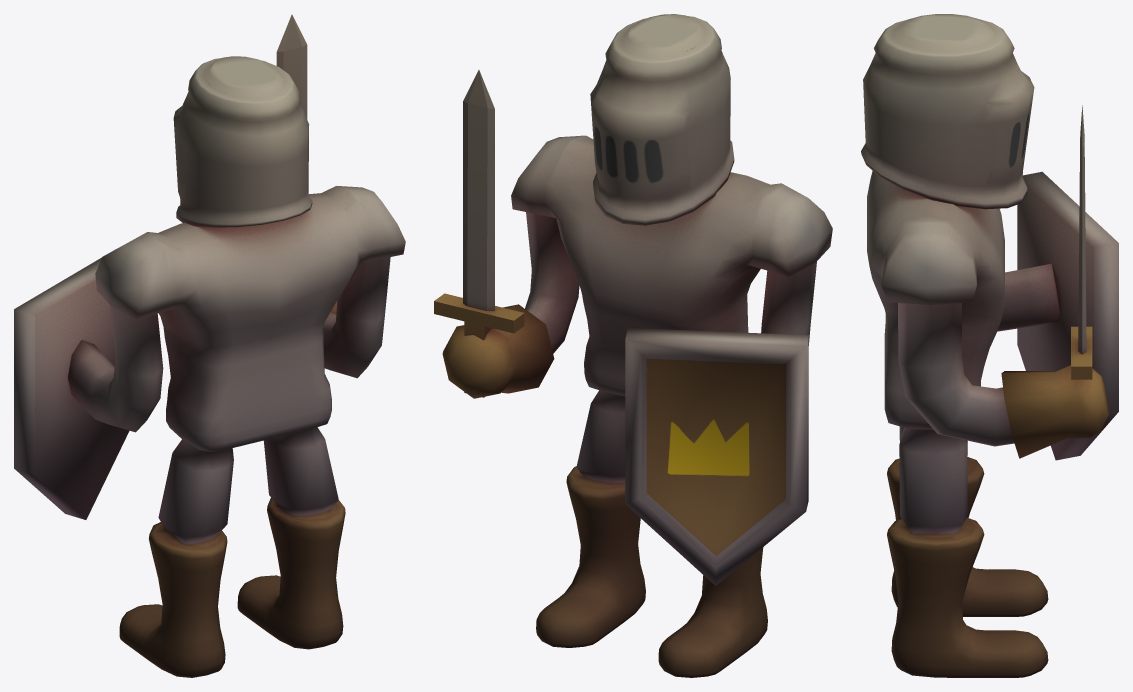
The model's file is ASM - PBR Metallic Roughness.glb.
The picture shows the model from 3 angles, left to right: view 1: azimuth 30°, elevation 25°; view 2: azimuth 150°, elevation 25°; view 3: azimuth 270°, elevation 25°; orthographic projection. The views are drawn at different scales.
Parts seen in each view (by area): view 1: Cube, Cube.002, Cube.003, Cube.004; view 2: Cube, Cube.003, Cube.002, Cube.004, Cylinder; view 3: Cube, Cube.002, Cube.003, Cylinder, Cube.004.
Part boxes in pixels (x1,y1,x2,y2): Cube: (68, 186, 405, 677); Cube.002: (173, 56, 312, 227); Cube.003: (14, 257, 129, 519); Cube.004: (276, 14, 307, 119); Cube: (511, 135, 832, 677); Cube.003: (625, 327, 808, 585); Cube.002: (590, 14, 734, 225); Cube.004: (434, 70, 524, 397); Cylinder: (442, 304, 554, 398); Cube: (867, 171, 1060, 677); Cube.002: (861, 14, 1034, 209); Cube.003: (1017, 171, 1118, 460); Cylinder: (1001, 365, 1109, 458); Cube.004: (1071, 105, 1092, 437).
Bounding box in the file's own units: 1.34 × 2.19 × 0.8438.
Materials: 1 (1 with a texture image).
